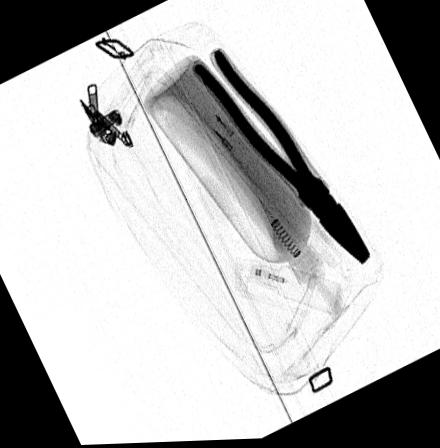Pliers: (192, 49, 370, 269)
